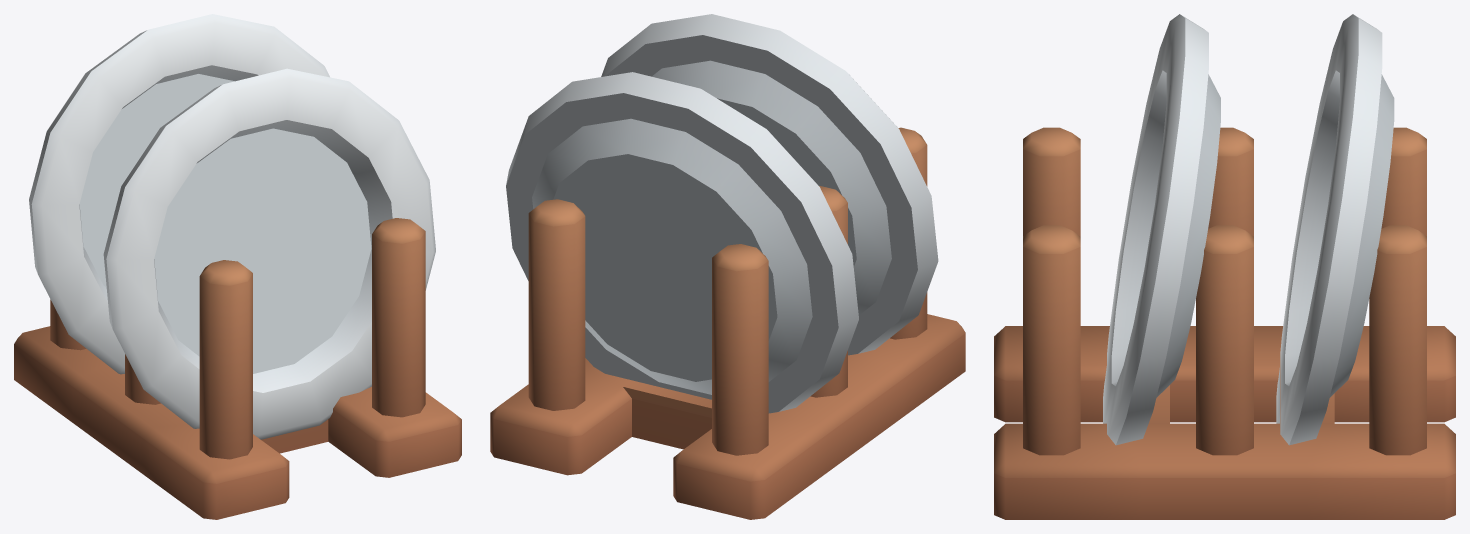
File: Dishrack Plates.glb
3 renders of one model, left to right at view 1: azimuth 30°, elevation 25°; view 2: azimuth 150°, elevation 25°; view 3: azimuth 270°, elevation 25°, orthographic. The views are drawn at different scales.
Parts seen in each view (by area): view 1: dishrack_plates; view 2: dishrack_plates; view 3: dishrack_plates.
Boxes of the visible parts, x1,y1,x2,y2 form: dishrack_plates: (14,14,461,519); dishrack_plates: (490,14,965,519); dishrack_plates: (994,14,1455,519).
Size of the model in its own units: 0.75 by 0.7841 by 0.8.
1 material, 1 textured.
